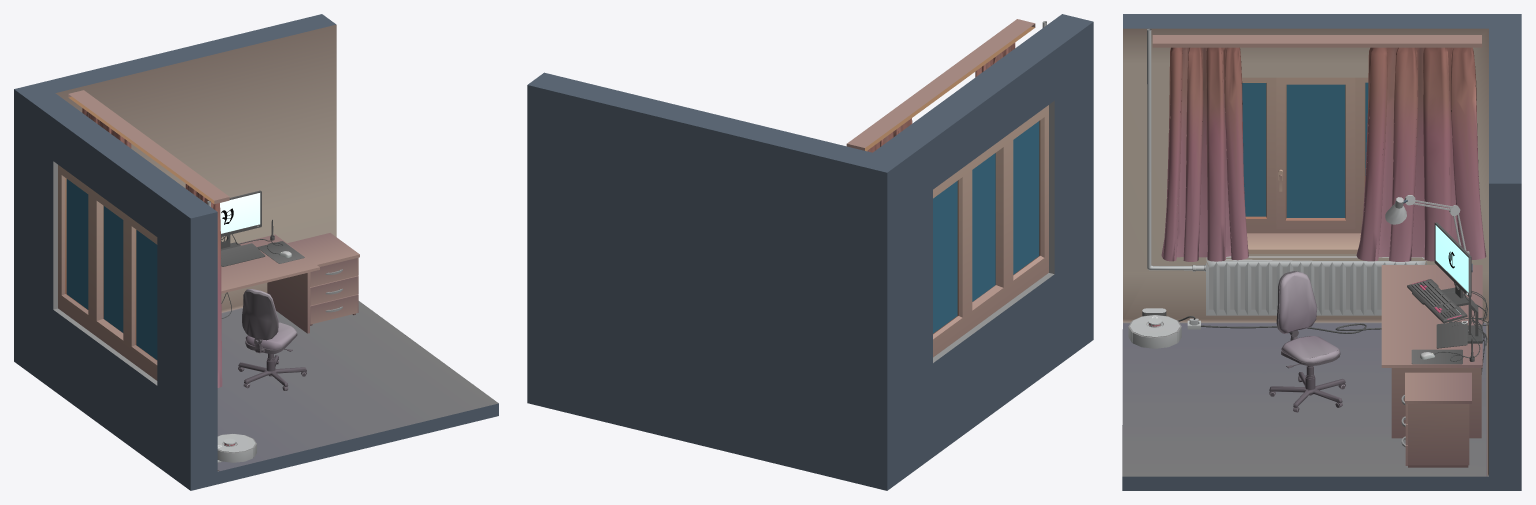
File: optimized-roomv2-transformed.glb
The picture shows the model from 3 angles, left to right: view 1: azimuth 30°, elevation 25°; view 2: azimuth 150°, elevation 25°; view 3: azimuth 270°, elevation 25°; orthographic projection. The views are drawn at different scales.
Visible parts, largest first — view 1: window_blinn1_0, window4_phong1_0, emis_lambert1_0; view 2: window_blinn1_0, window4_phong1_0; view 3: window_blinn1_0, window4_phong1_0, emis_lambert1_0.
Part boxes in pixels (x1=…): window_blinn1_0: x1=14, y1=14, x2=498, y2=490; window4_phong1_0: x1=66, y1=179, x2=157, y2=359; emis_lambert1_0: x1=218, y1=193, x2=281, y2=447; window_blinn1_0: x1=527, y1=14, x2=1093, y2=490; window4_phong1_0: x1=933, y1=121, x2=1039, y2=333; window_blinn1_0: x1=1122, y1=14, x2=1521, y2=490; window4_phong1_0: x1=1242, y1=82, x2=1368, y2=217; emis_lambert1_0: x1=1152, y1=225, x2=1468, y2=353.
Bounding box in the file's own units: 6.68 × 5.66 × 6.65.
